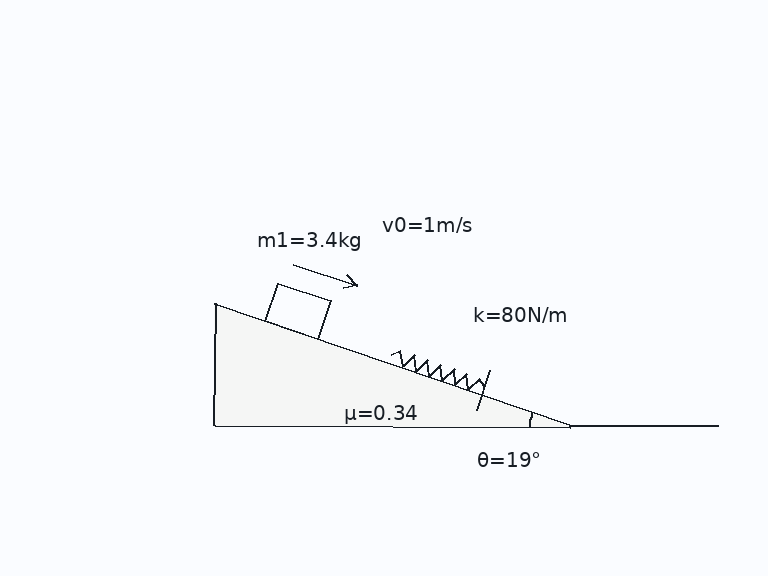block: (262, 280, 332, 341)
ramp: (212, 302, 572, 428)
spring: (390, 349, 486, 391)
